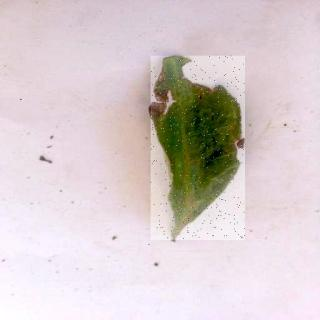Brown Blight: (152, 58, 246, 243)
